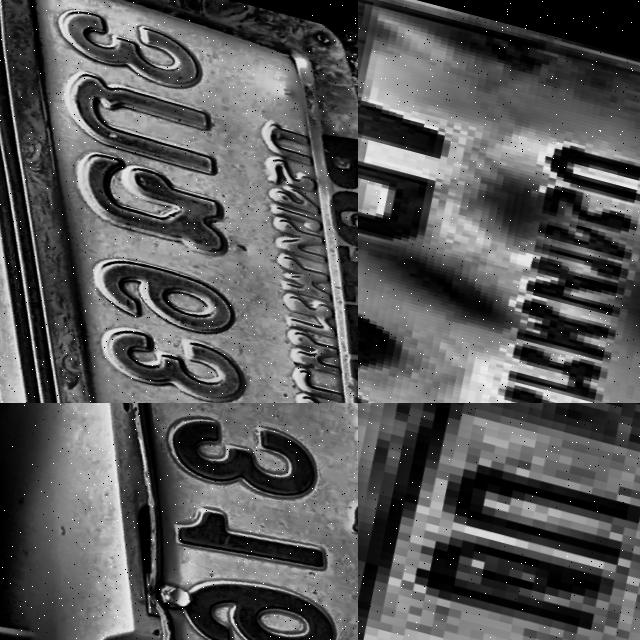license-plate: (0, 0, 358, 403), (358, 0, 640, 403), (0, 403, 358, 640), (358, 403, 640, 640)
